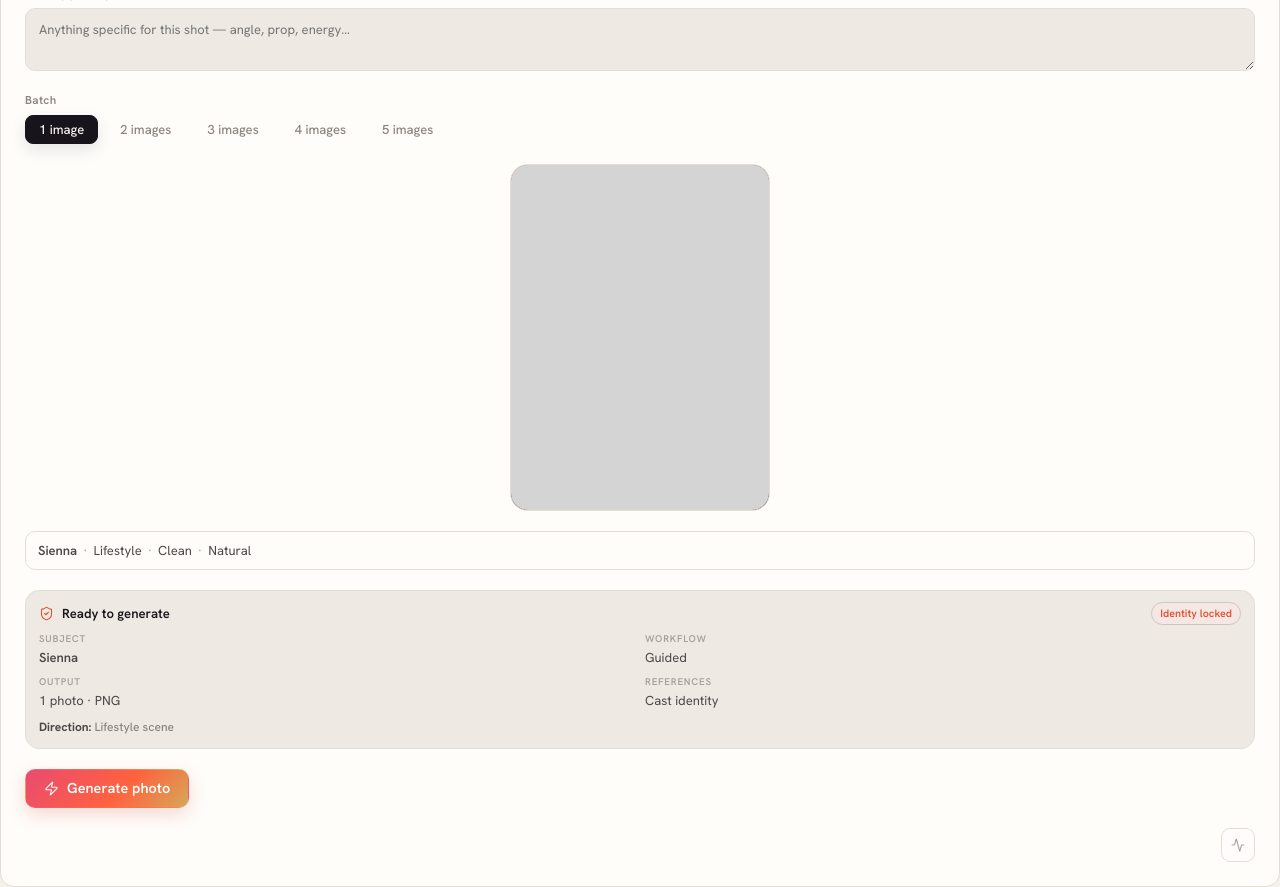
Test: ShootBuilder — owner-only staging reference preflight › renders a sanitized failure reason for an invalid reference, never raw JSON error dumps
(page scrolled)
Click the button "Check References". click: x=1238, y=845
box: top-left (1221, 828), bottom-right (1255, 862)
(page scrolled)
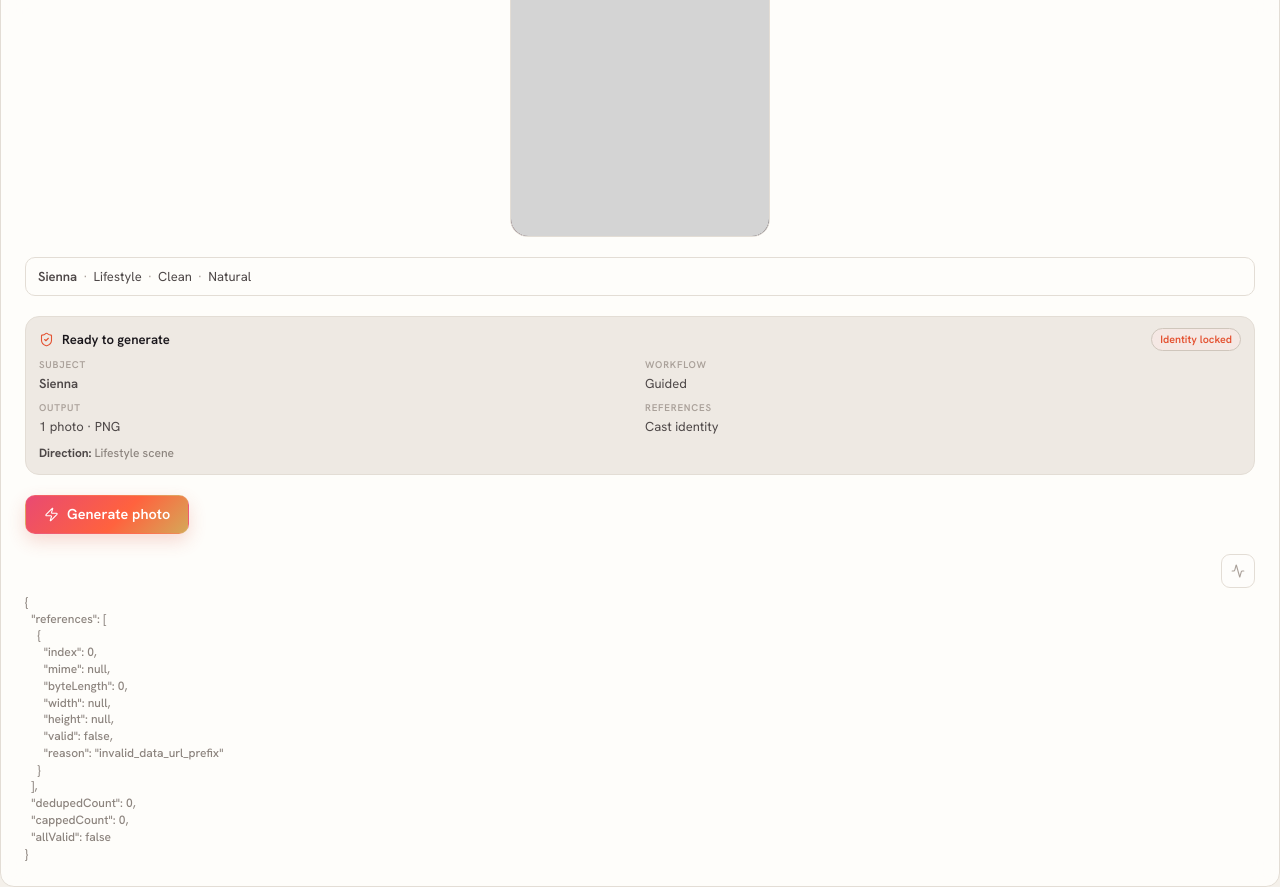
Check: the text "invalid_data_url_prefix" is shown, box top-left (25, 594), bottom-right (223, 862)
